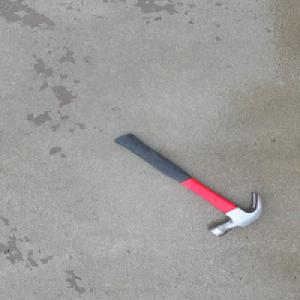Hammer: (112, 132, 263, 238)
